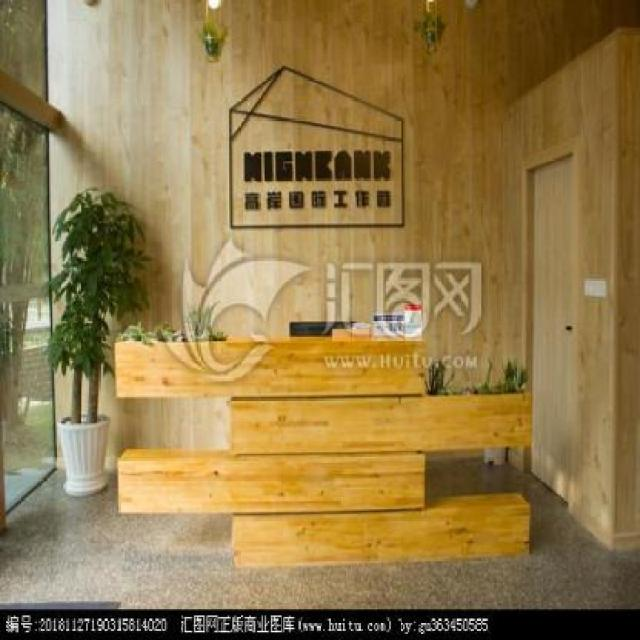frontdesk: (102, 310, 536, 572)
